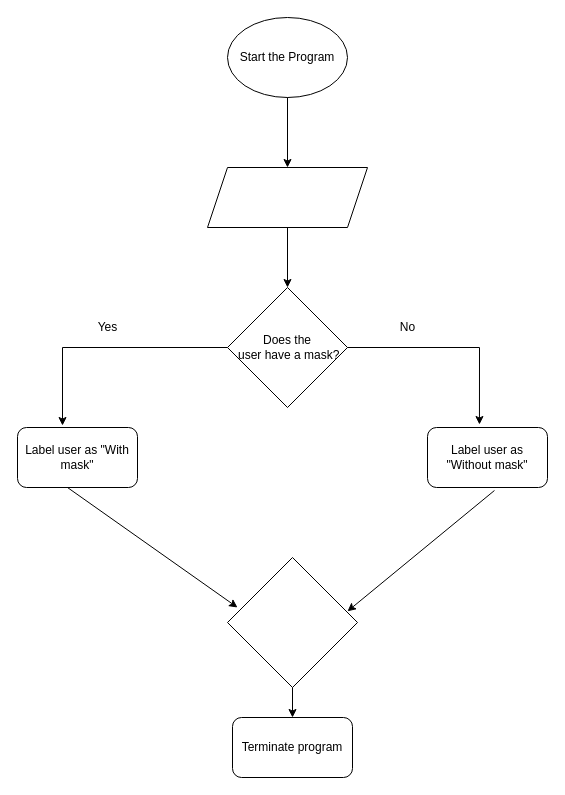
The diagram is 565 pixels wide and 795 high, and some of its shapes have lost their labels. Each missing label, with the centre of its shape:
"If key pressed == esc or CTRL + C" goes at [292,622].
"Process image from webcam" goes at [287,197].
